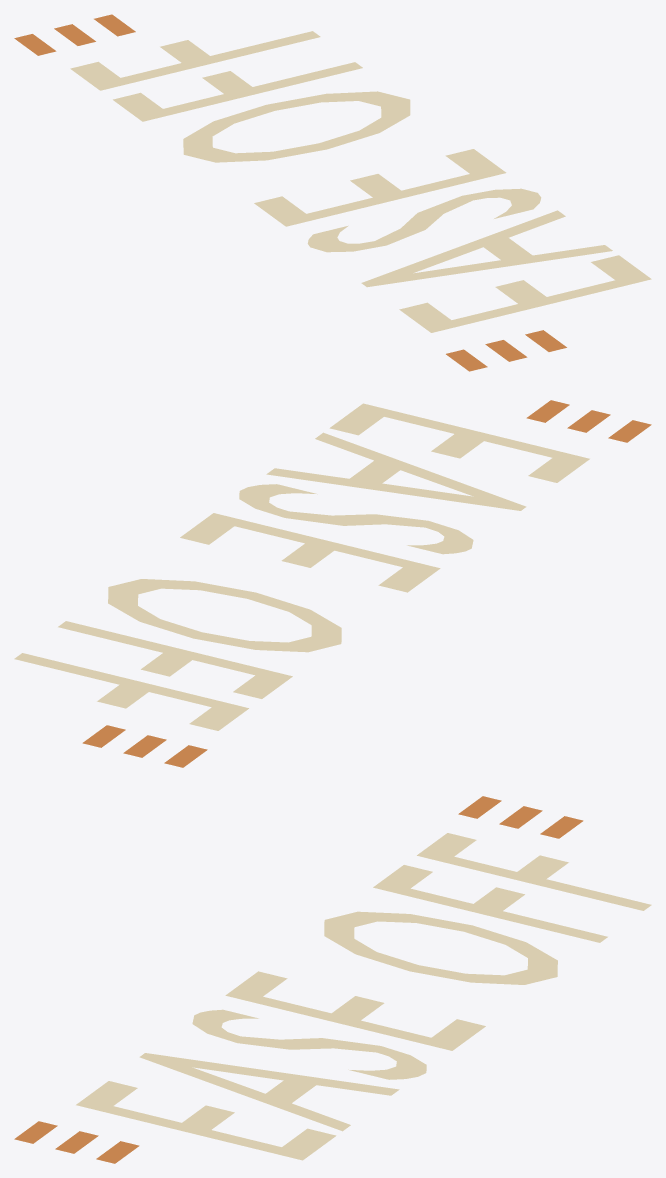
File: w5a-high-receiver-ease-off.glb
3 renders of one model, top to bottom at view 1: azimuth 30°, elevation 25°; view 2: azimuth 150°, elevation 25°; view 3: azimuth 330°, elevation 25°, orthographic. The views are drawn at different scales.
Parts seen in each view (by area): view 1: Direction-facing mineral lettering, Narrow shoulder marks; view 2: Direction-facing mineral lettering, Narrow shoulder marks; view 3: Direction-facing mineral lettering, Narrow shoulder marks.
Part boxes in pixels (x1,y1,x2,y2): Direction-facing mineral lettering: (70,31,651,332); Narrow shoulder marks: (14,14,566,371); Direction-facing mineral lettering: (14,403,589,730); Narrow shoulder marks: (82,400,651,767); Direction-facing mineral lettering: (76,833,651,1160); Narrow shoulder marks: (14,796,583,1163).
Bounding box in the file's own units: 1.18 × 0 × 3.97.
